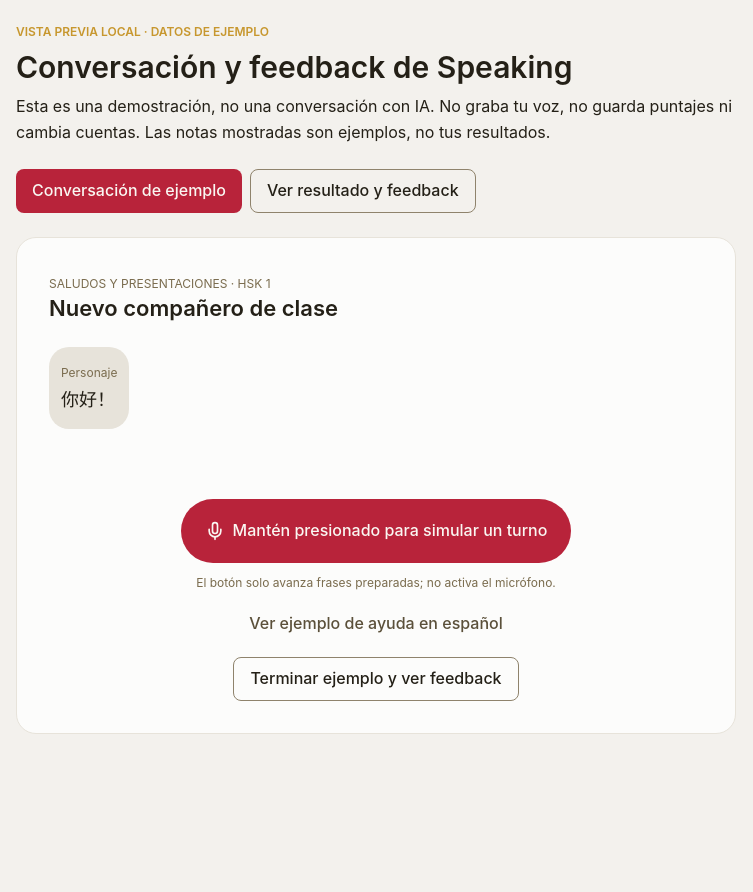
it: non-billing local Speaking preview › shows missing capture without a fabricated zero or final score
Click the button "Ver resultado y feedback": {"x": 363, "y": 191} [250,170,476,213]
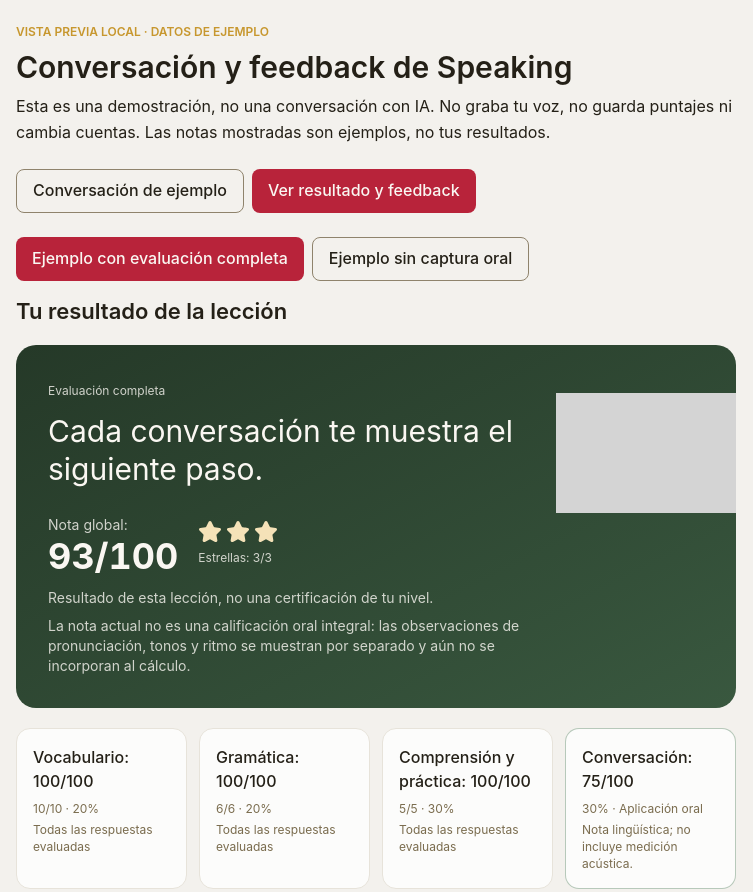
Click the button "Ejemplo sin captura oral": {"x": 421, "y": 259} [312,237,529,281]
(page scrolled)
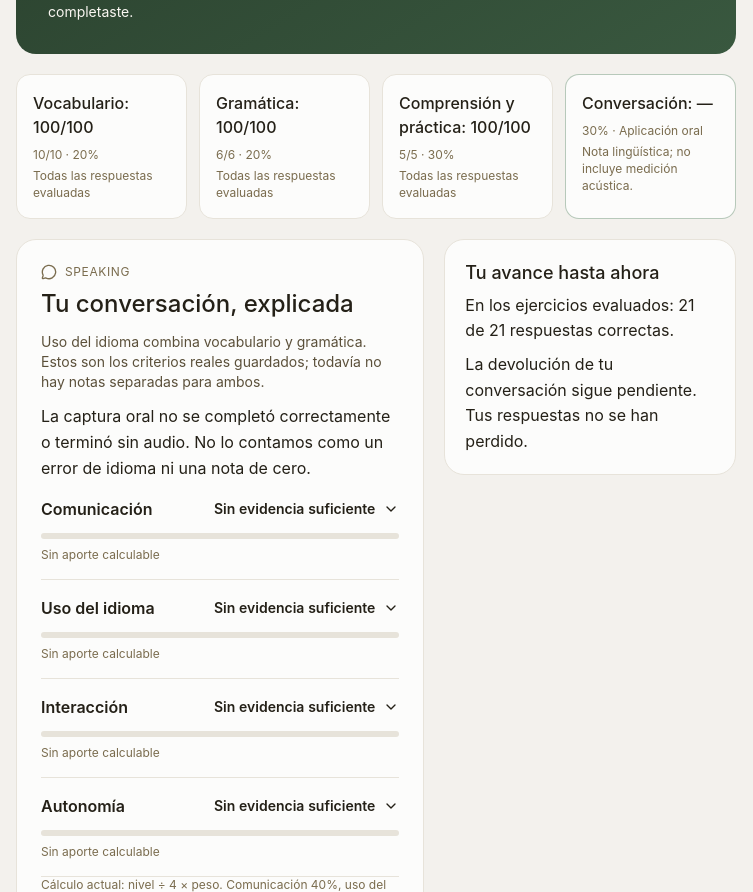
Expected: the text "La captura oral no se completó" is shown, [41,406,390,478]
